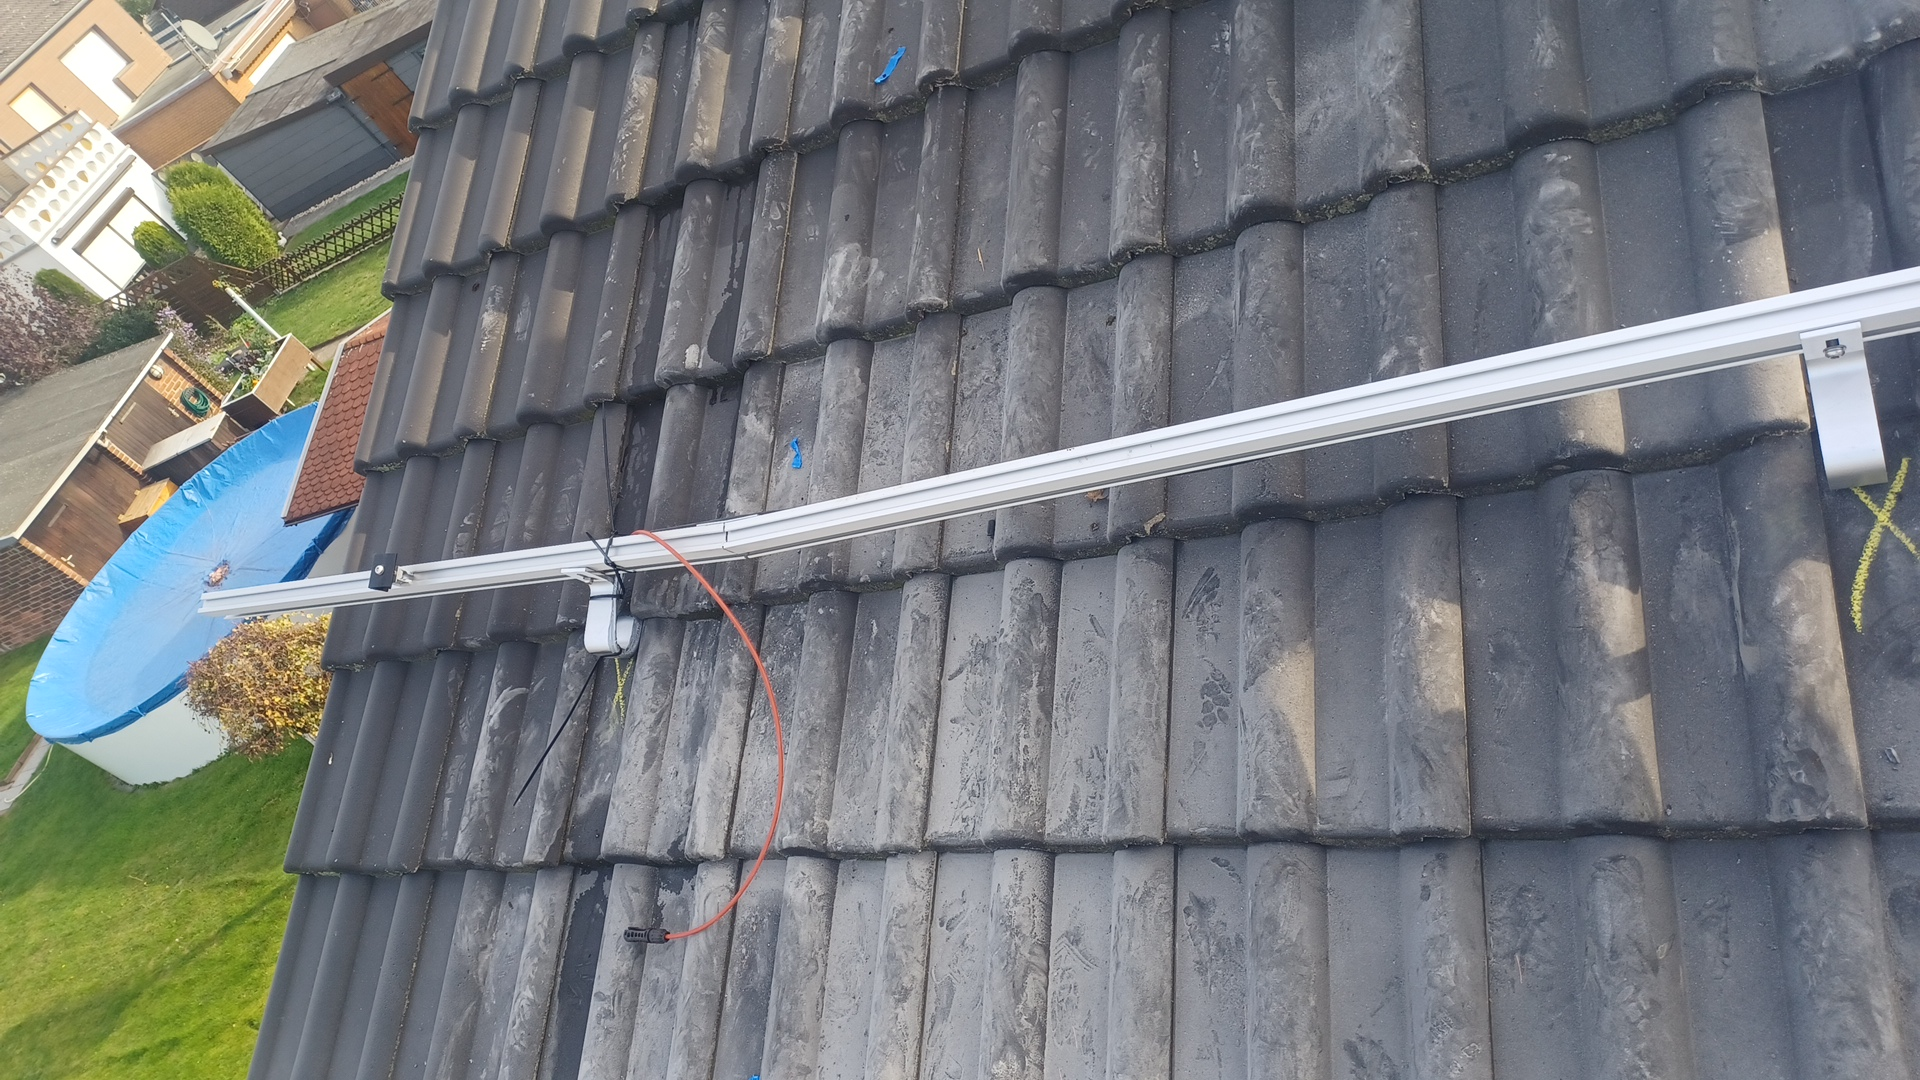hook: (1799, 320, 1888, 491), (560, 567, 642, 657)
